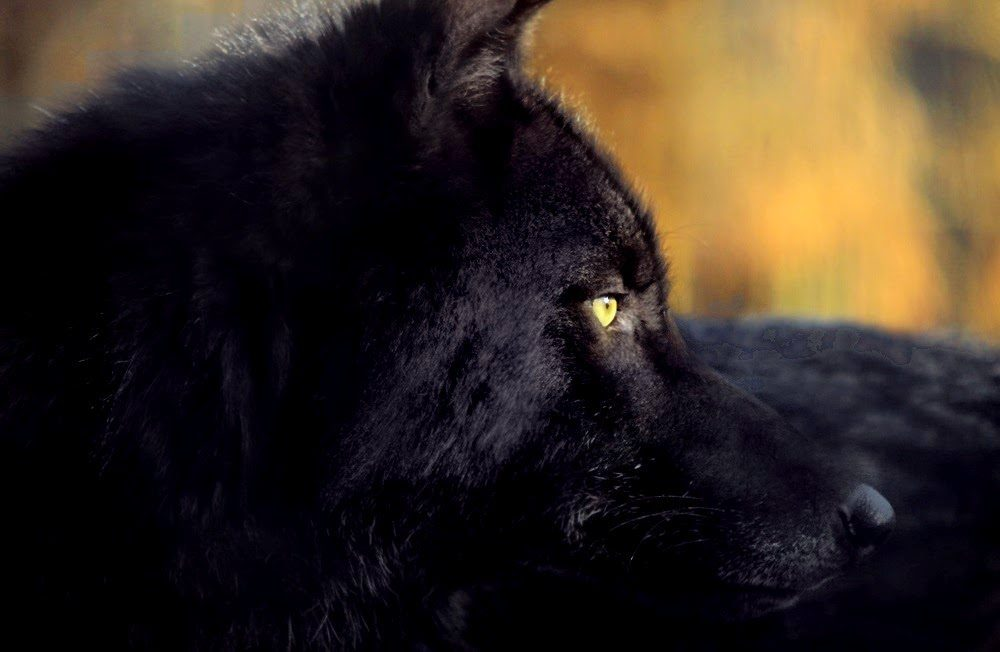Lobo: (190, 1, 921, 639)
